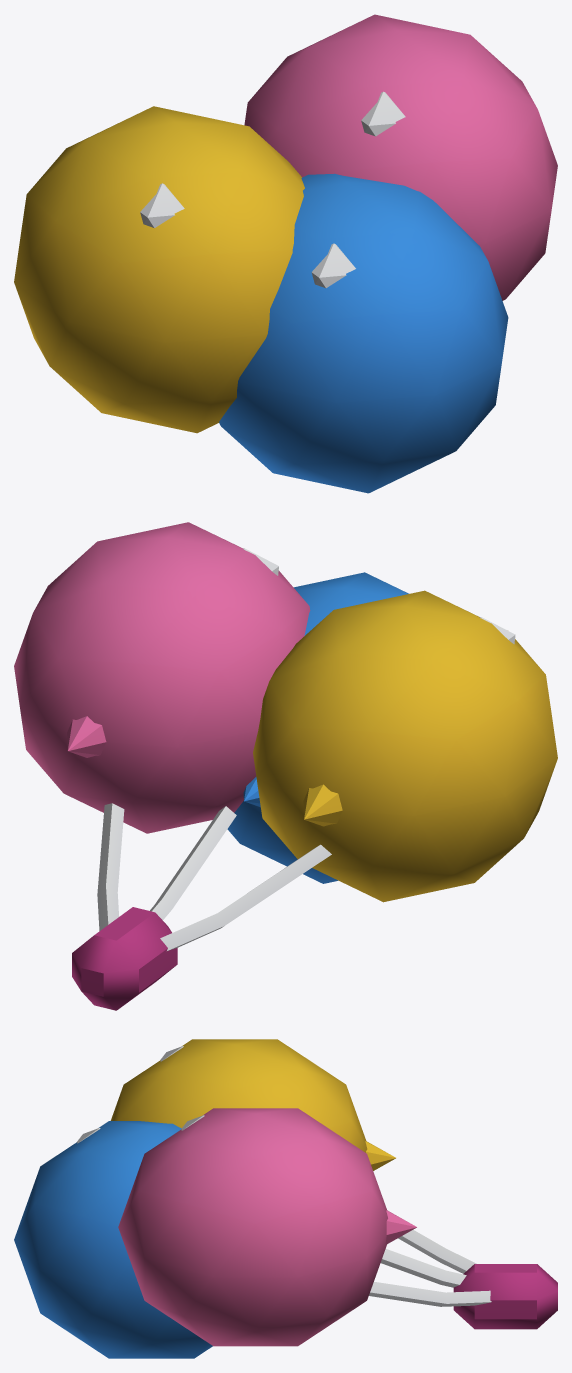
Rendered from w_g_balloon.glb.
3 renders of one model, top to bottom at view 1: azimuth 30°, elevation 25°; view 2: azimuth 150°, elevation 25°; view 3: azimuth 270°, elevation 25°, orthographic. The views are drawn at different scales.
Visible parts, largest first — view 1: body; view 2: body; view 3: body.
Boxes of the visible parts, x1,y1,x2,y2 form: body: (14,14,557,493); body: (14,522,557,1010); body: (14,1039,557,1358).
Bounding box in the file's own units: 0.1927 × 0.135 × 0.2349.
